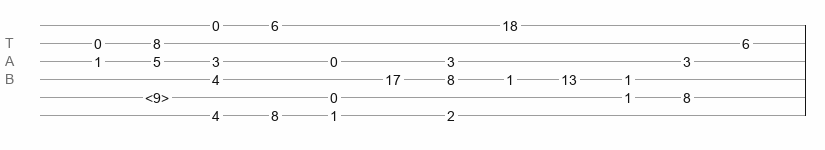0: (94, 36, 102, 46), (212, 18, 220, 28), (330, 54, 338, 64), (330, 90, 338, 100)
1: (94, 54, 102, 64), (330, 108, 338, 118), (506, 72, 514, 82), (624, 72, 632, 82), (624, 90, 632, 100)
13: (561, 72, 577, 82)
17: (385, 72, 401, 82)
18: (502, 18, 518, 28)
2: (447, 108, 455, 118)
3: (212, 54, 220, 64), (447, 54, 455, 64), (683, 54, 691, 64)
4: (212, 108, 220, 118), (212, 72, 220, 82)
5: (153, 54, 161, 64)
6: (271, 18, 279, 28), (742, 36, 750, 46)
8: (153, 36, 161, 46), (271, 108, 279, 118), (447, 72, 455, 82), (683, 90, 691, 100)
harmonic: (145, 90, 169, 100)
